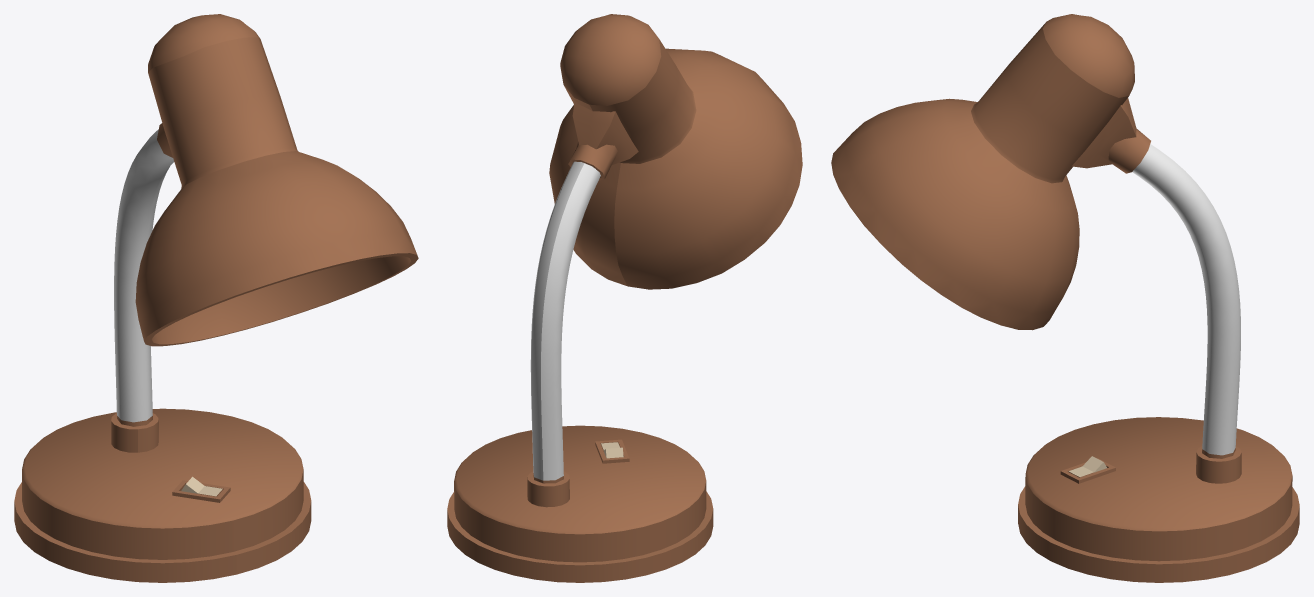
The model's file is lamp_coffee.fbx.
The picture shows the model from 3 angles, left to right: view 1: azimuth 30°, elevation 25°; view 2: azimuth 150°, elevation 25°; view 3: azimuth 270°, elevation 25°; orthographic projection. The views are drawn at different scales.
Visible parts, largest first — view 1: lamp; view 2: lamp; view 3: lamp.
Boxes of the visible parts, x1,y1,x2,y2 form: lamp: (14, 14, 418, 582); lamp: (447, 14, 802, 582); lamp: (831, 14, 1299, 582).
Size of the model in its own units: 1735 by 3436 by 2882.
